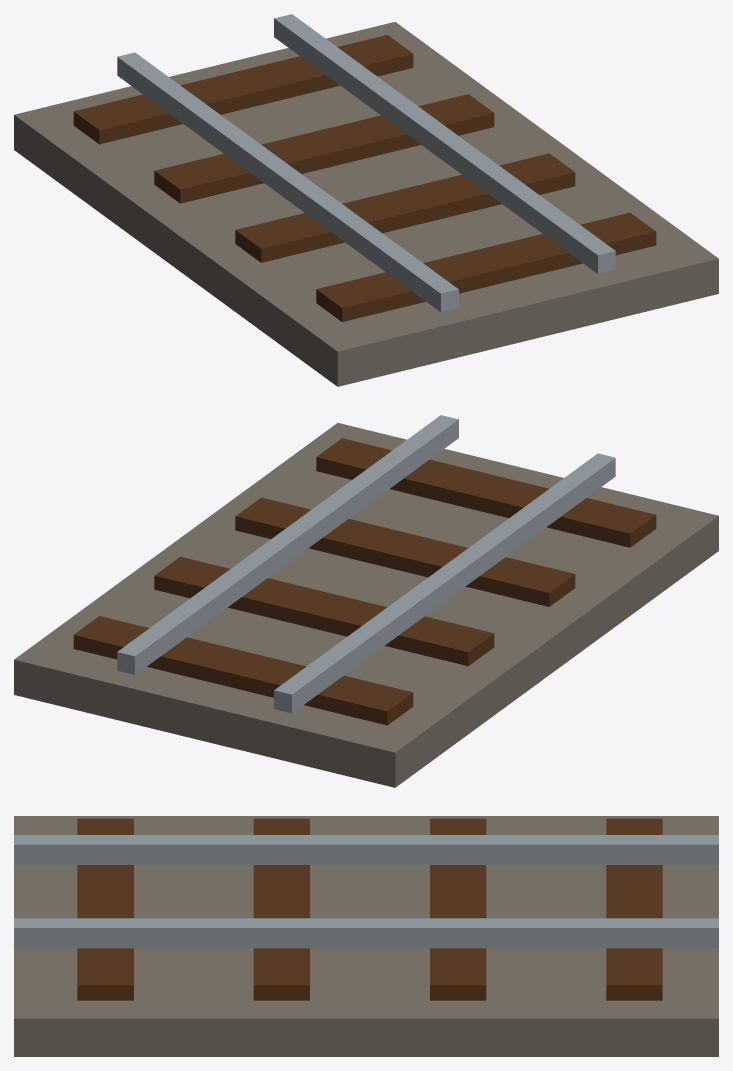
Rendered from infra_rail_arm.glb.
The picture shows the model from 3 angles, top to bottom: view 1: azimuth 30°, elevation 25°; view 2: azimuth 150°, elevation 25°; view 3: azimuth 270°, elevation 25°; orthographic projection. The views are drawn at different scales.
Parts seen in each view (by area): view 1: infra_rail_arm; view 2: infra_rail_arm; view 3: infra_rail_arm.
Part boxes in pixels (bbox=[...]): infra_rail_arm: bbox=[14, 14, 718, 386]; infra_rail_arm: bbox=[14, 415, 718, 787]; infra_rail_arm: bbox=[14, 816, 718, 1056].
Size of the model in its own units: 0.34 by 0.058 by 0.5.
